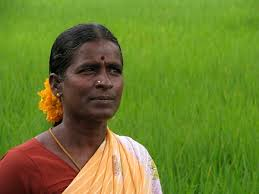person: (49, 23, 124, 123)
